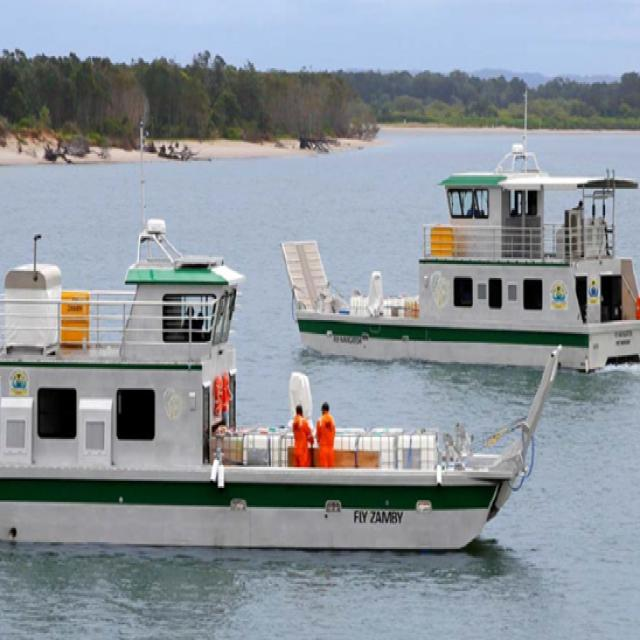houseboat: (0, 248, 529, 553), (279, 164, 640, 362)
